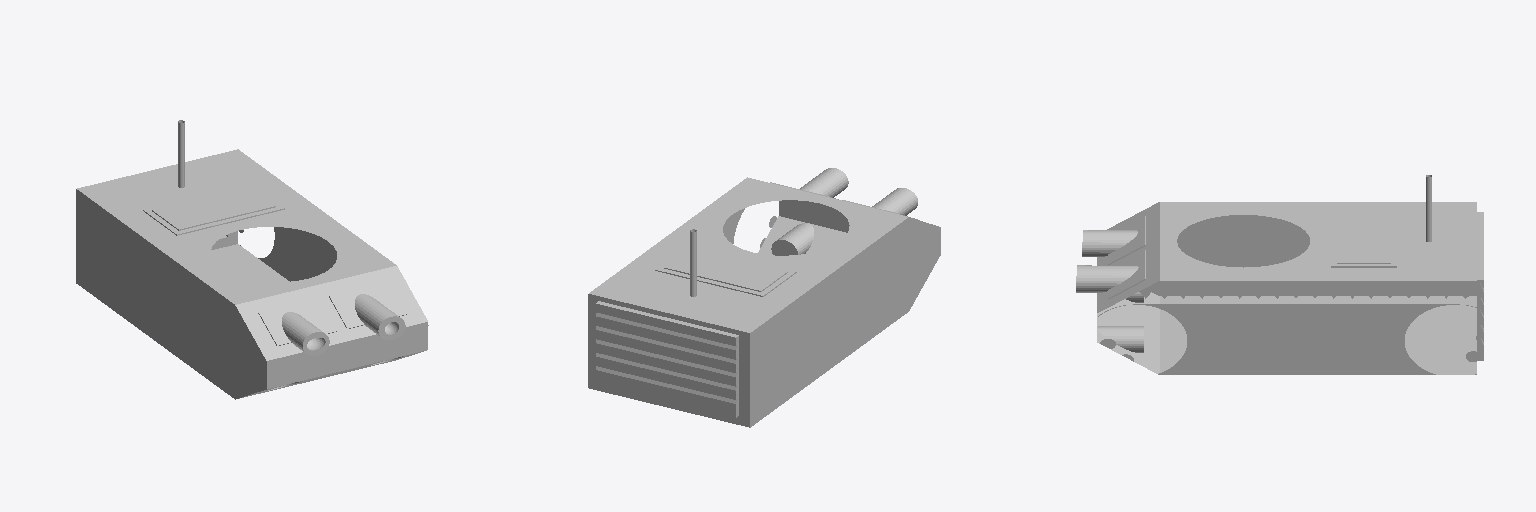
Rendered from estructura.obj.
3 views of the same model, side by side, from view 1: azimuth 30°, elevation 25°; view 2: azimuth 150°, elevation 25°; view 3: azimuth 270°, elevation 25° (orthographic).
Visible parts, largest first — view 1: polySurface89; view 2: polySurface89; view 3: polySurface89.
Part boxes in pixels (left/top/right/bottom): polySurface89: left=76, top=120, right=428, bottom=399; polySurface89: left=588, top=168, right=940, bottom=427; polySurface89: left=1076, top=175, right=1483, bottom=374.
Size of the model in its own units: 1.45 by 1.37 by 3.17.